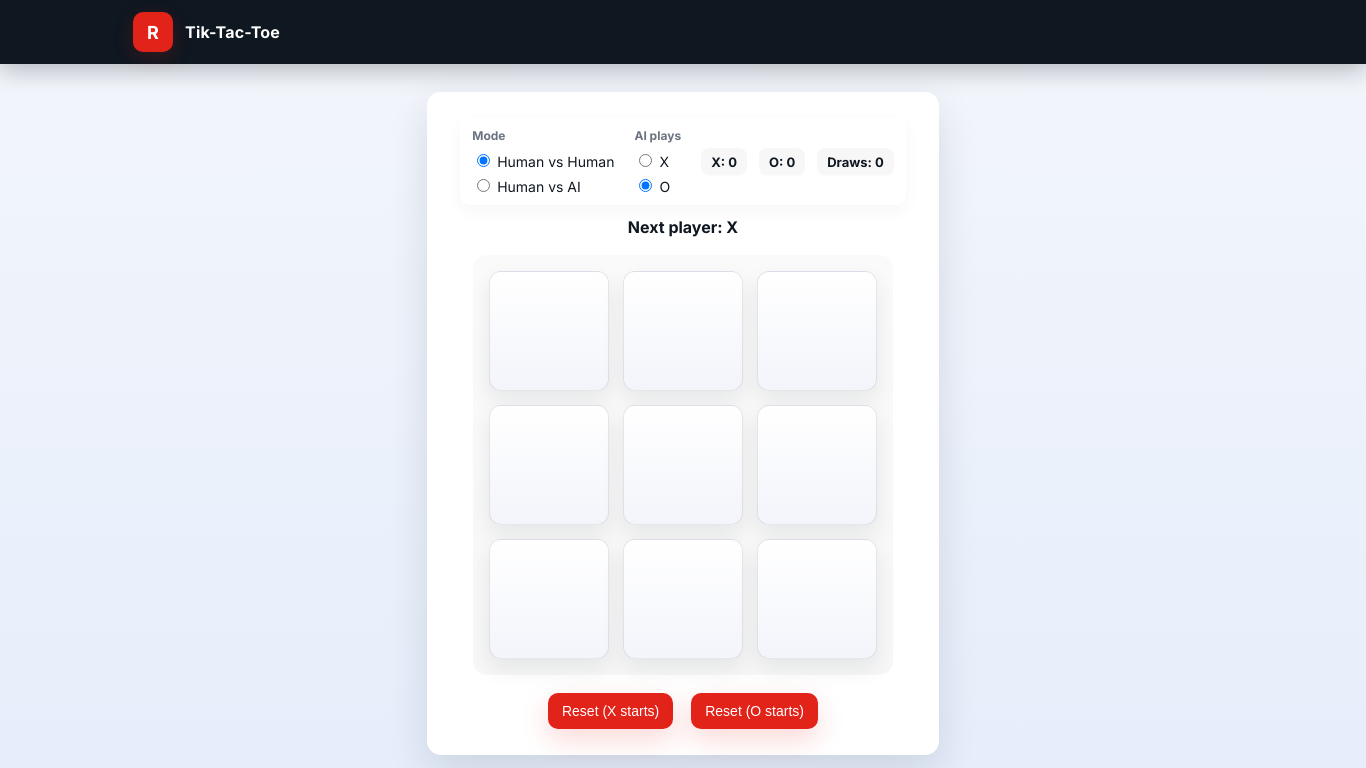
Test: App integration › plays a game and updates session scoreboard for X
Click the 1st button named "square".
click(549, 331)  # box [489,271,609,391]
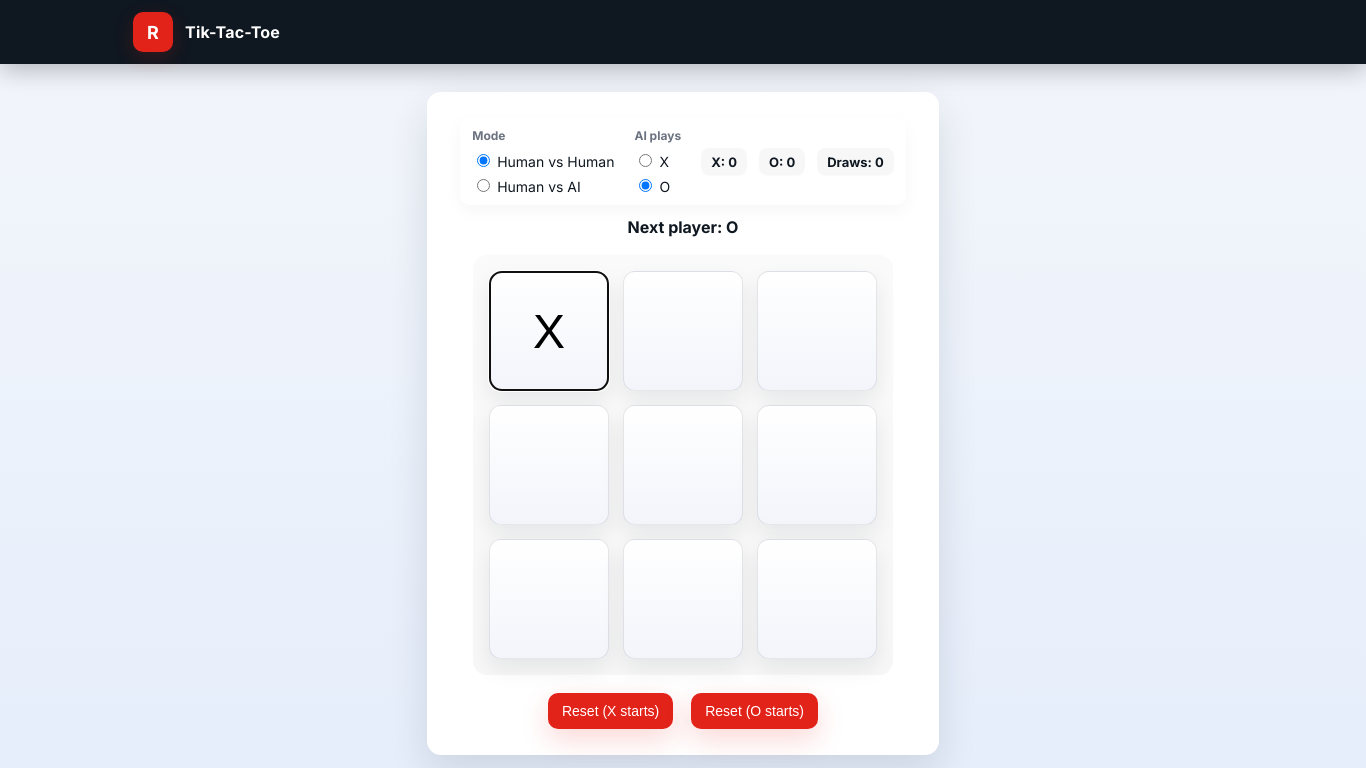
Click the 3rd button named "square".
click(549, 465)  # box [489,405,609,525]
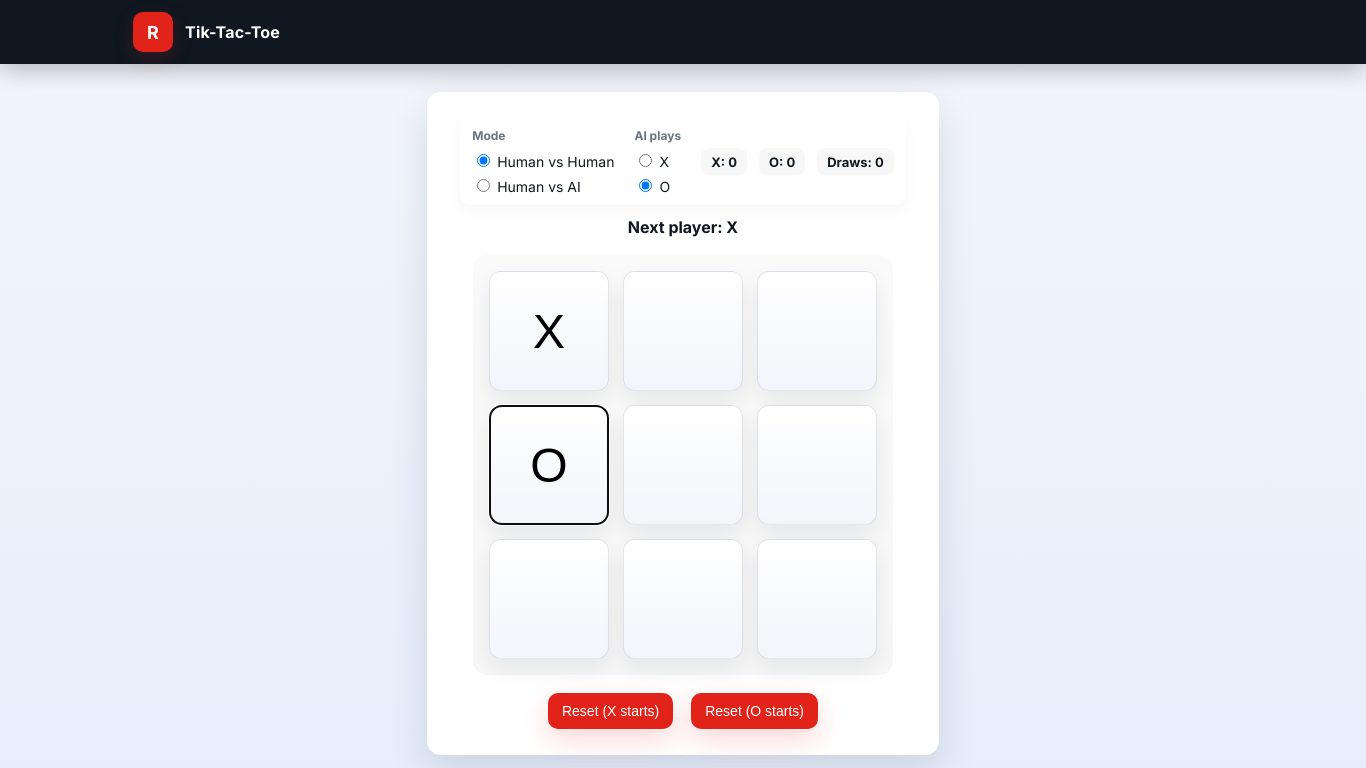
Click the 1st button named "square".
click(683, 331)  # box [623,271,743,391]
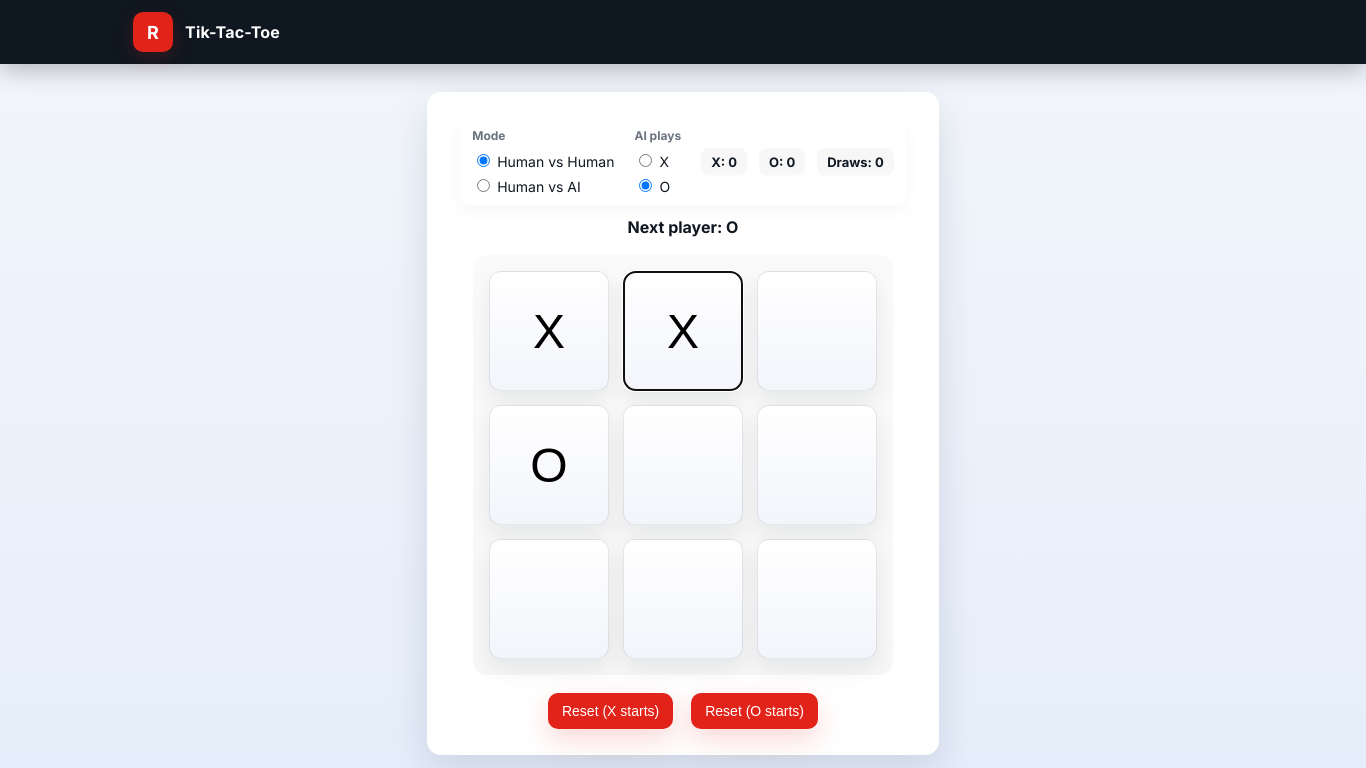
Click the 2nd button named "square".
click(683, 465)  # box [623,405,743,525]
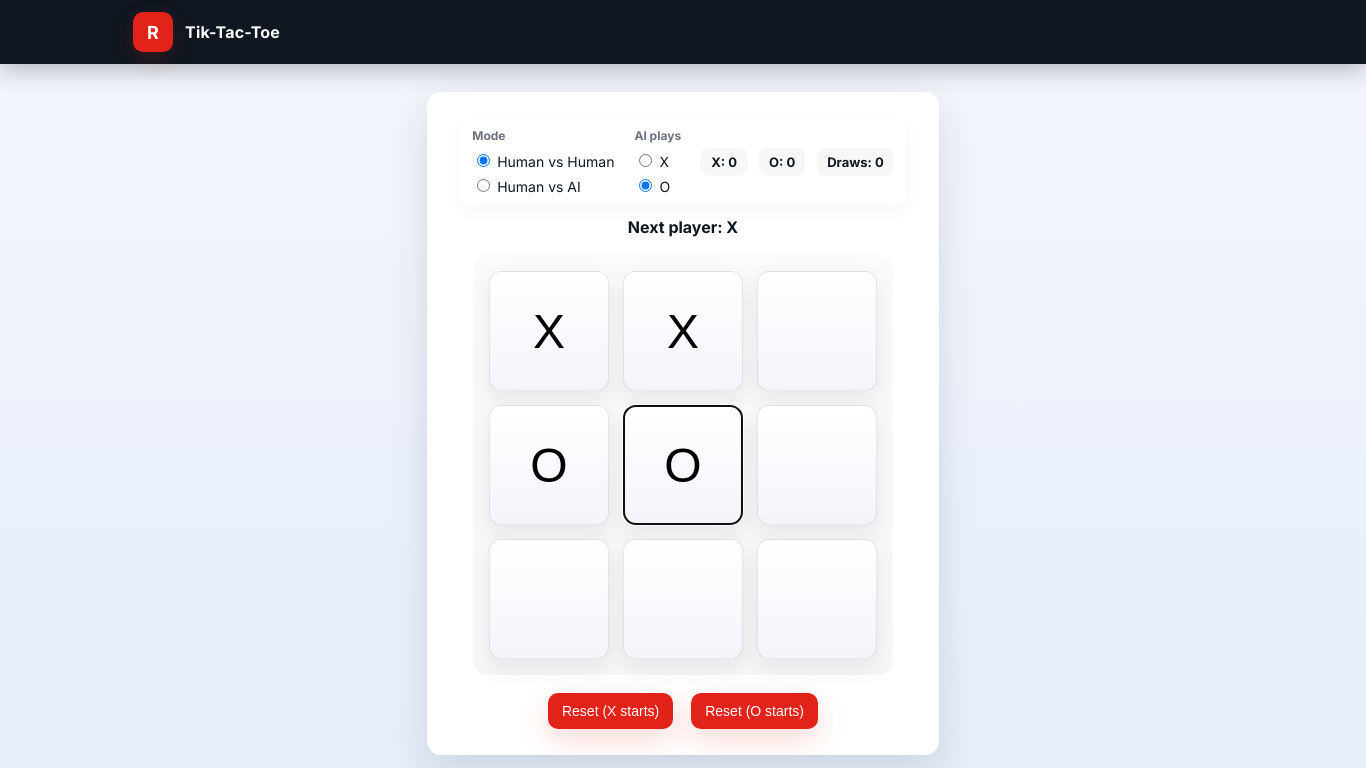
Click the 1st button named "square".
click(817, 331)  # box [757,271,877,391]
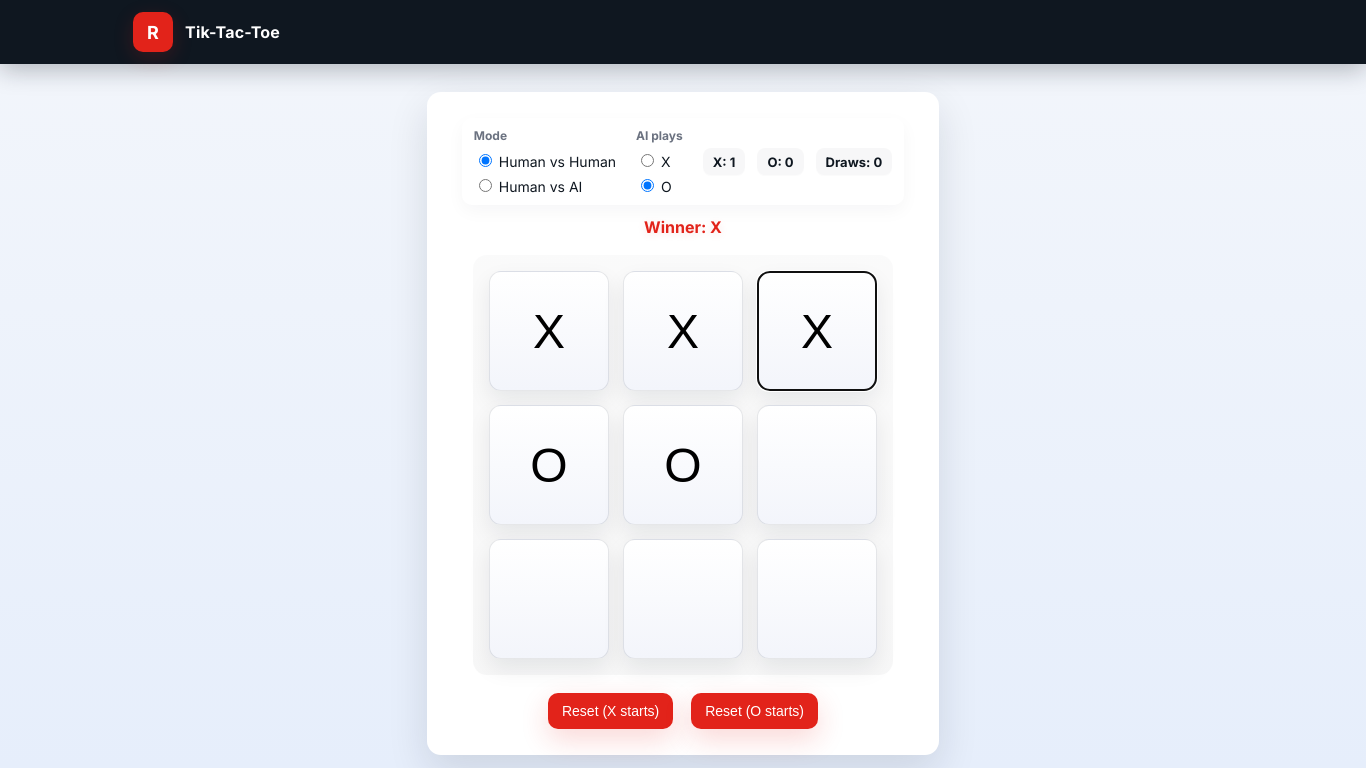
expect the text "X: 1" is shown: met, box [703,148,745,176]
